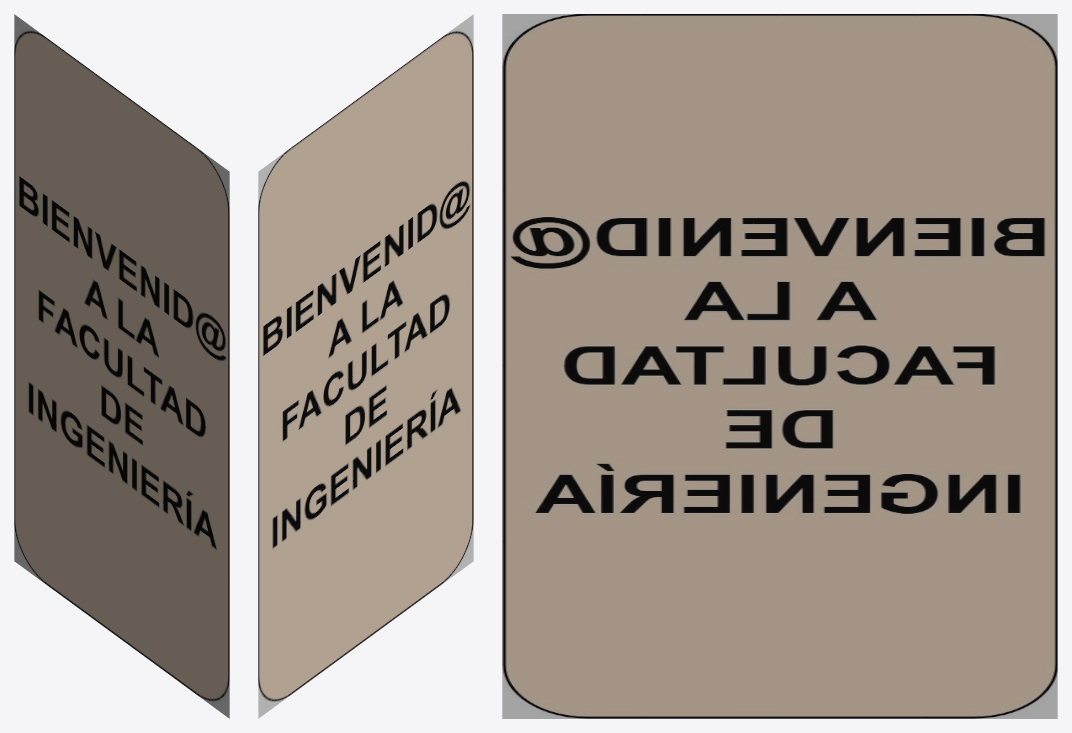
File: Cartel1.obj
3 views of the same model, side by side, from view 1: azimuth 30°, elevation 25°; view 2: azimuth 150°, elevation 25°; view 3: azimuth 270°, elevation 25° (orthographic). The views are drawn at different scales.
Parts seen in each view (by area): view 1: Cartel1; view 2: Cartel1; view 3: Cartel1.
Part boxes in pixels (box(x1,y1,x2,y2)): Cartel1: box(14, 14, 229, 718); Cartel1: box(258, 14, 473, 718); Cartel1: box(502, 14, 1057, 718).
Size of the model in its own units: 0 by 2.8 by 2.
Materials: 1 (1 with a texture image).
